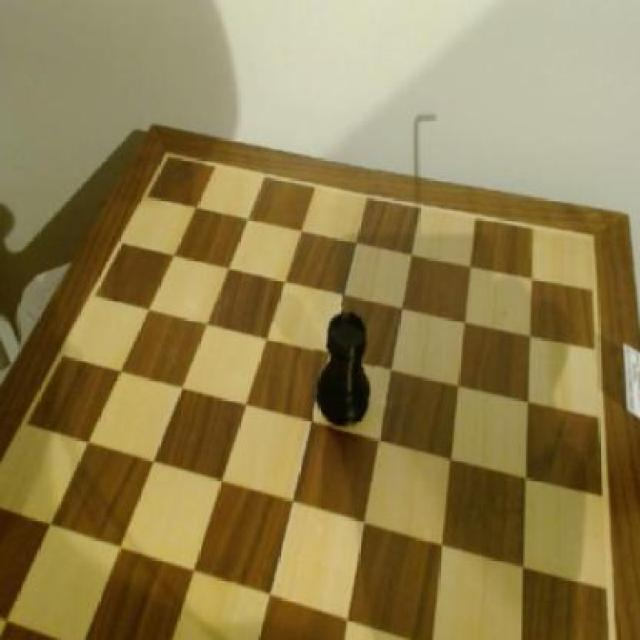black-queen: (314, 306, 374, 433)
